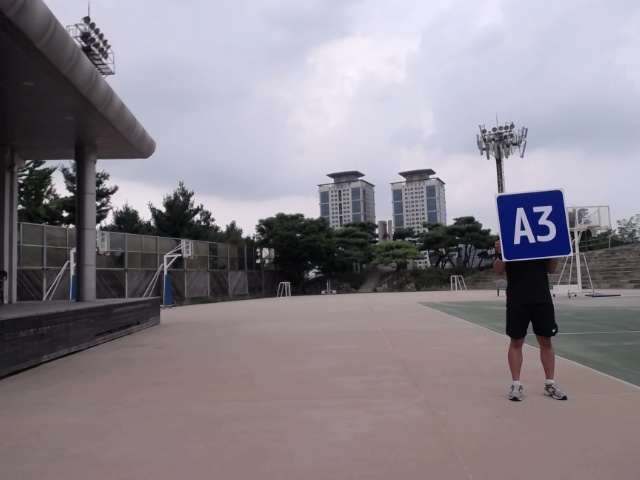delivery_a3: (496, 189, 572, 261)
